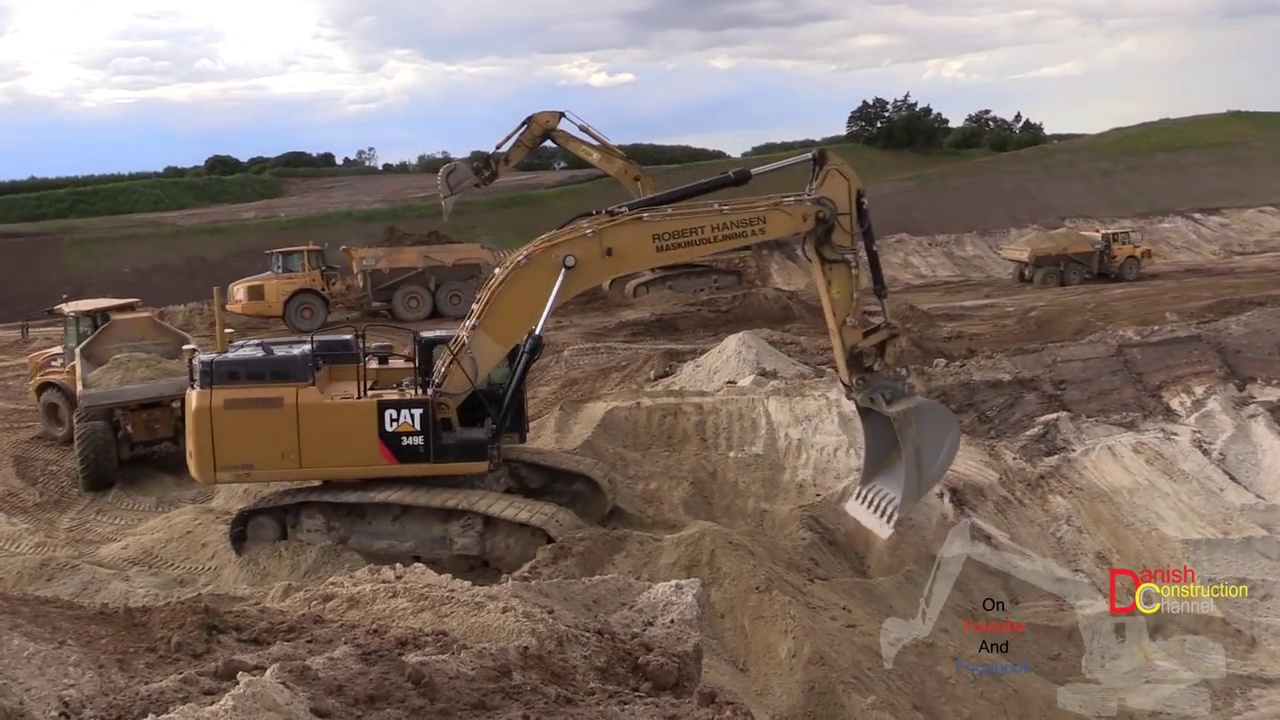dumper: (30, 292, 208, 489), (226, 239, 504, 331), (1001, 228, 1154, 286)
excavator: (186, 152, 961, 579), (436, 107, 751, 303)
